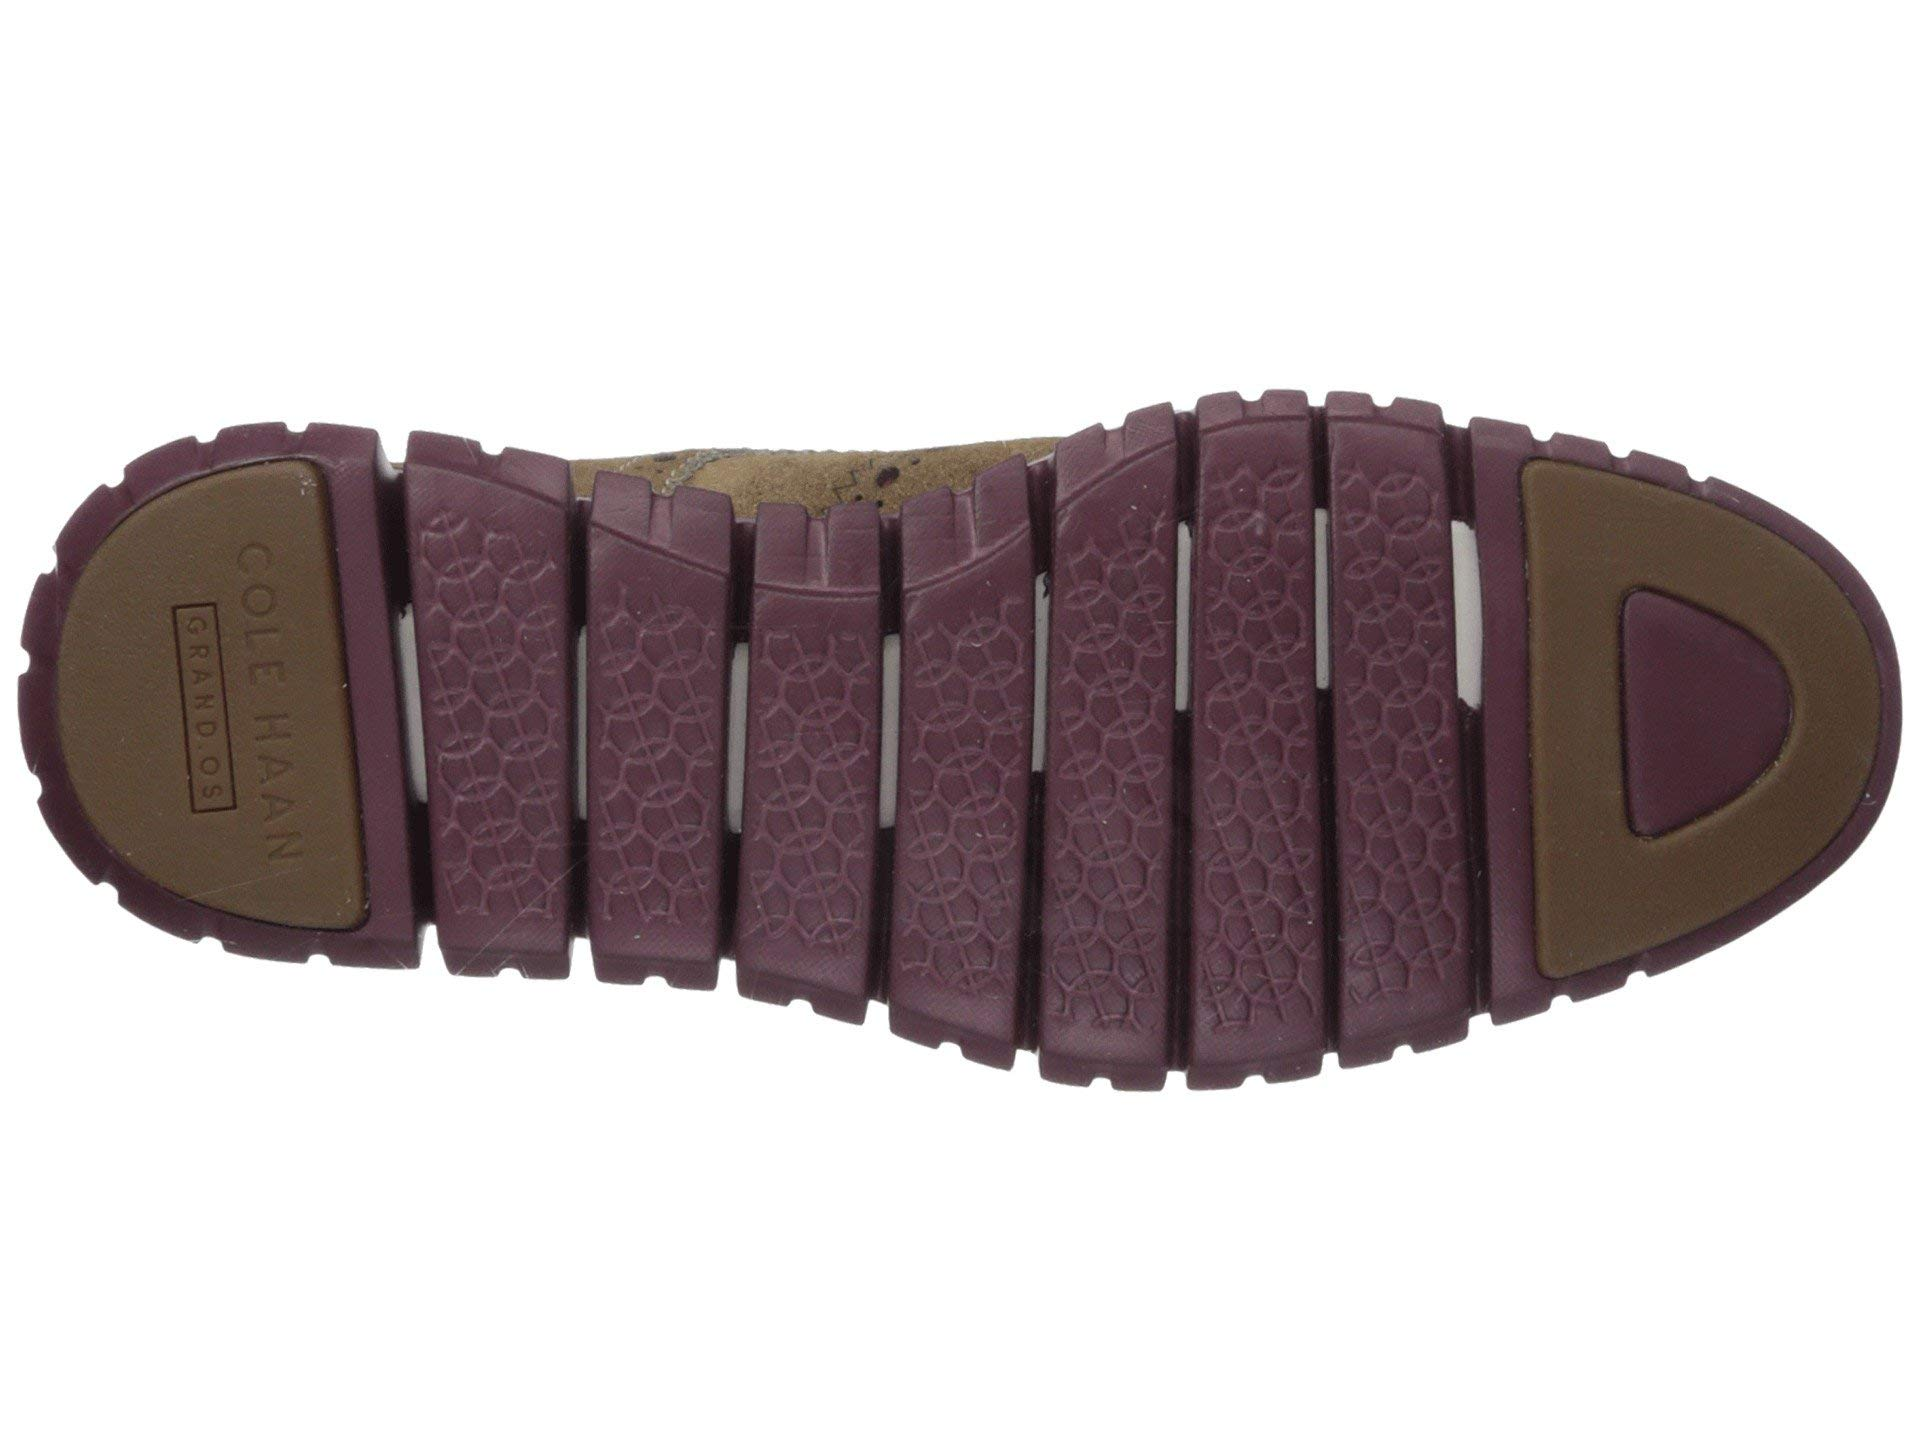circle: (562, 514, 1039, 989), (110, 573, 369, 856)
line: (562, 514, 1039, 989)
quad: (562, 514, 1039, 989), (110, 573, 369, 856)
text: (110, 573, 369, 856)
